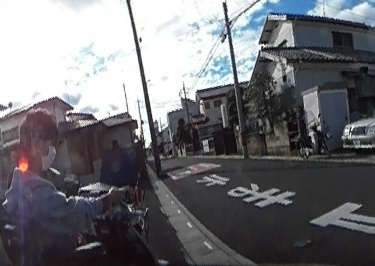person: (4, 102, 111, 266)
